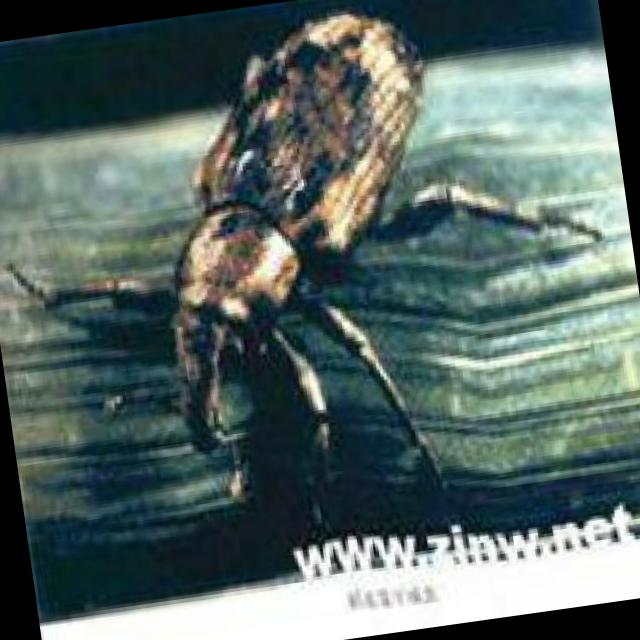rice-bug: (105, 0, 516, 507)
